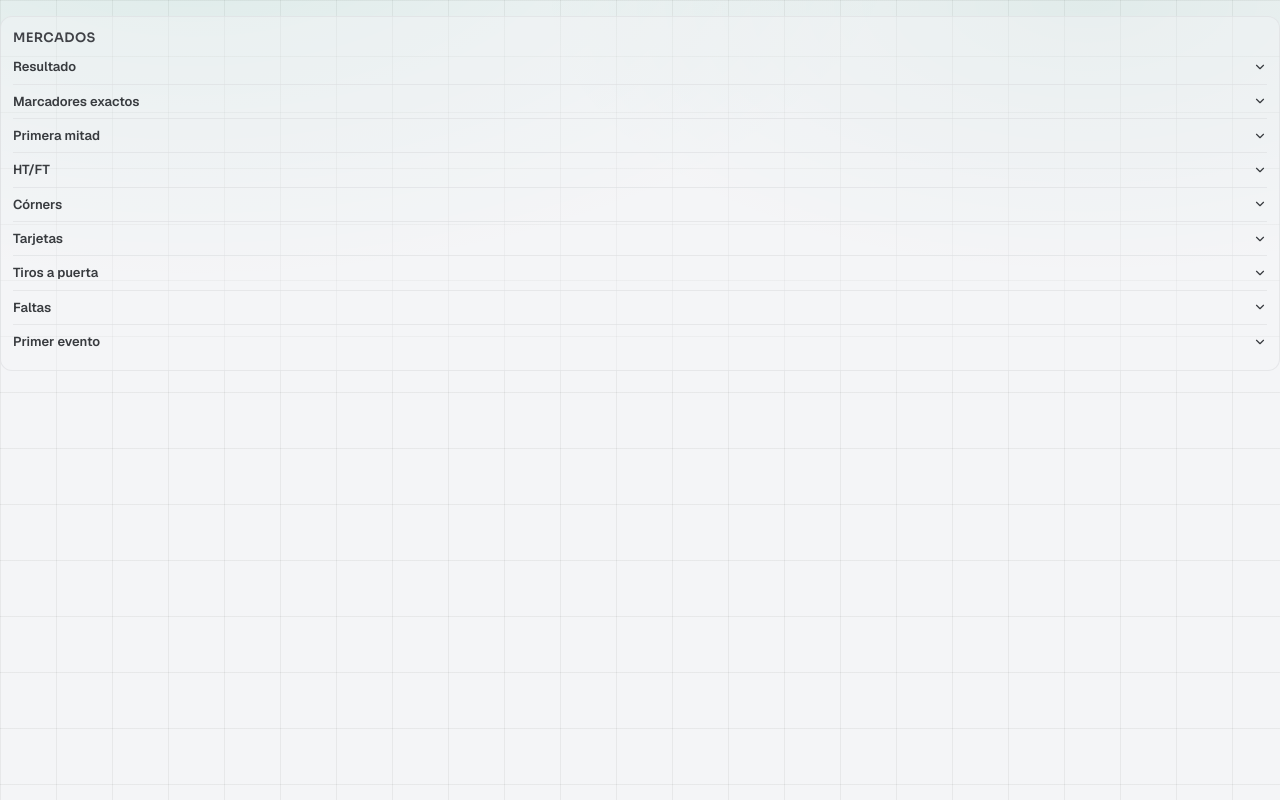
it: Markets › abre una seccion al expandirla
Step 1. Click the button "Resultado" → click(45, 67), box x1=13 y1=50 x2=1267 y2=84
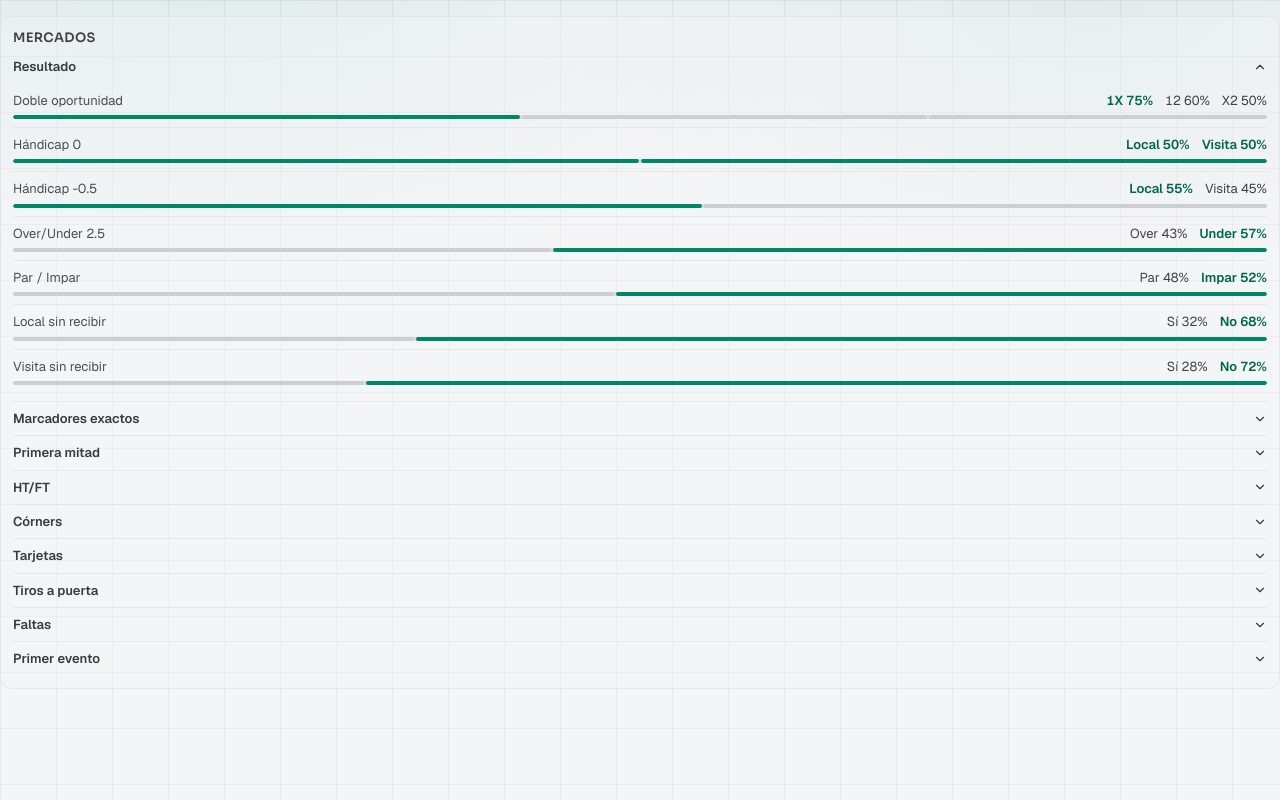
Expected: the button "Resultado" is expanded, x1=13 y1=50 x2=1267 y2=84
Expected: the text "Doble oportunidad" is shown, x1=13 y1=92 x2=123 y2=109
